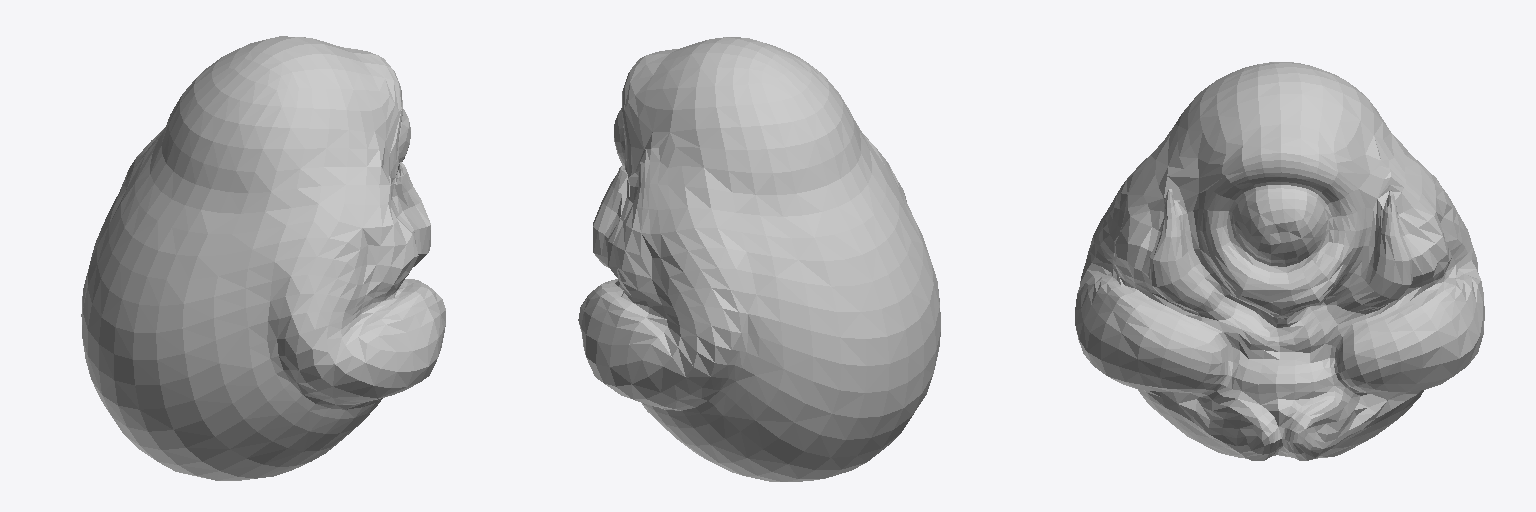
File: homunculus.obj
3 views of the same model, side by side, from view 1: azimuth 30°, elevation 25°; view 2: azimuth 150°, elevation 25°; view 3: azimuth 270°, elevation 25° (orthographic).
Visible parts, largest first — view 1: mesh; view 2: mesh; view 3: mesh.
Part boxes in pixels (x1,y1,x2,y2): mesh: (81, 36, 445, 480); mesh: (578, 37, 940, 481); mesh: (1075, 62, 1484, 460).
Size of the model in its own units: 0.7732 by 0.9971 by 0.9201.